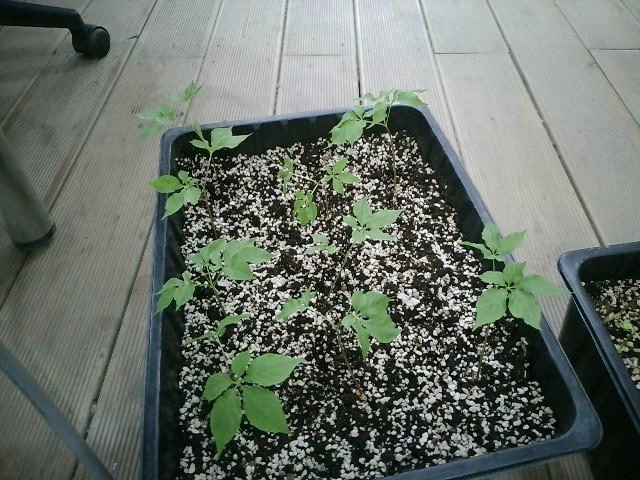수확기: (203, 335, 297, 459), (443, 259, 559, 333), (137, 258, 227, 329), (135, 159, 213, 237), (350, 207, 430, 266), (183, 107, 260, 168), (182, 295, 253, 360), (444, 220, 530, 273), (336, 298, 405, 356), (383, 87, 451, 135), (136, 91, 195, 140), (183, 223, 244, 270), (217, 224, 261, 285), (270, 291, 323, 337), (333, 78, 385, 123), (324, 110, 370, 152), (299, 233, 347, 269), (280, 191, 334, 223), (257, 148, 306, 180), (317, 160, 363, 194), (175, 73, 215, 111)
